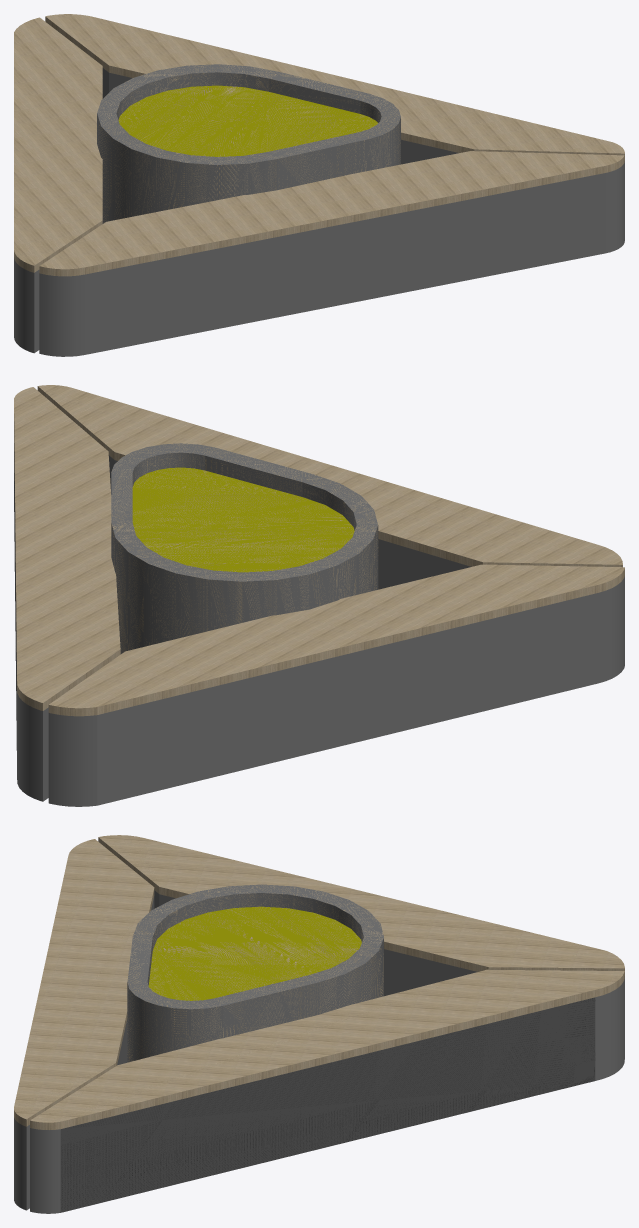
Rendered from Garden+Bench2.dae.
3 views of the same model, one above another, from view 1: azimuth 30°, elevation 25°; view 2: azimuth 150°, elevation 25°; view 3: azimuth 270°, elevation 25° (orthographic). The views are drawn at different scales.
Parts seen in each view (by area): view 1: group_5, group_0 (×3), group_9, group_7, group_8, group_3, group_4; view 2: group_3, group_0 (×3), group_7, group_8, group_9, group_4, group_5; view 3: group_4 (×2), group_0 (×3), group_8, group_9, group_7, group_3, group_5.
Boxes of the visible parts, left/top/right/bottom form: group_5: left=39, top=163, right=624, bottom=356; group_0 (×3): left=97, top=64, right=400, bottom=223; group_9: left=39, top=151, right=624, bottom=276; group_7: left=14, top=17, right=102, bottom=272; group_8: left=45, top=14, right=624, bottom=160; group_3: left=14, top=257, right=39, bottom=353; group_4: left=102, top=68, right=624, bottom=240; group_3: left=48, top=576, right=624, bottom=806; group_0 (×3): left=111, top=443, right=378, bottom=654; group_7: left=48, top=564, right=624, bottom=716; group_8: left=14, top=387, right=120, bottom=710; group_9: left=37, top=385, right=622, bottom=566; group_4: left=17, top=689, right=48, bottom=801; group_5: left=108, top=455, right=470, bottom=589; group_4 (×2): left=30, top=979, right=624, bottom=1213; group_0 (×3): left=127, top=884, right=383, bottom=1062; group_8: left=30, top=969, right=624, bottom=1129; group_9: left=14, top=839, right=154, bottom=1126; group_7: left=98, top=835, right=624, bottom=975; group_3: left=154, top=890, right=624, bottom=1059; group_5: left=14, top=896, right=154, bottom=1210.
Size of the model in its own units: 131 by 117 by 26.16.
6 materials, 2 textured.
